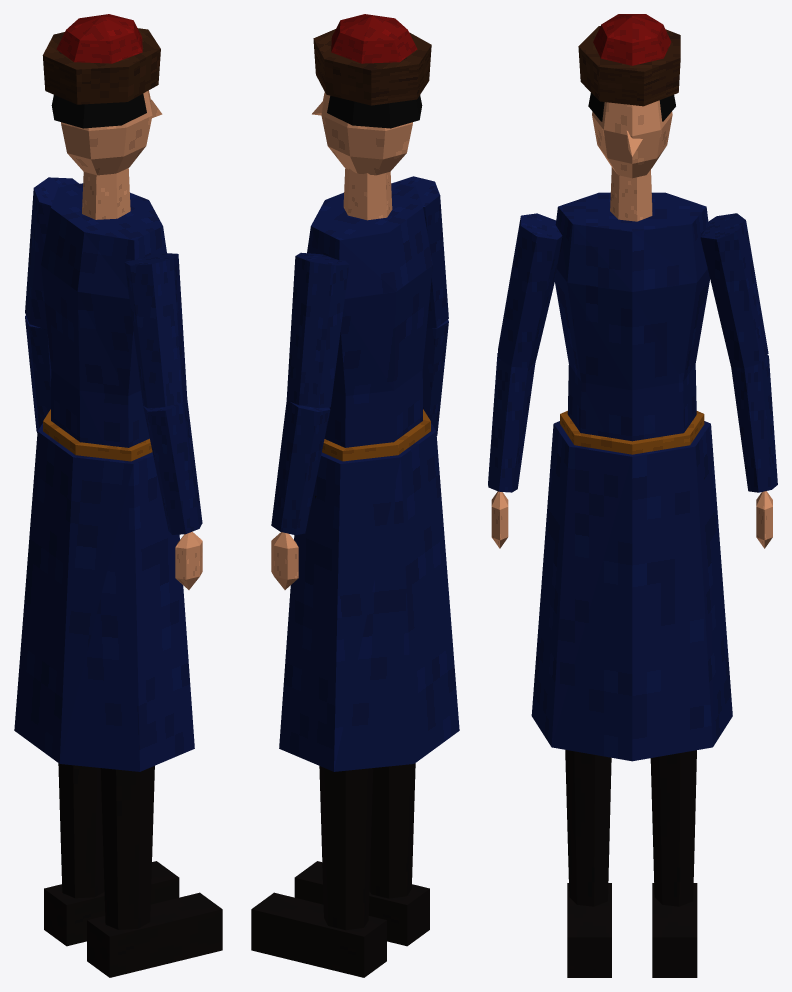
Rendered from protagonista.glb.
3 views of the same model, side by side, from view 1: azimuth 30°, elevation 25°; view 2: azimuth 150°, elevation 25°; view 3: azimuth 270°, elevation 25° (orthographic).
Parts seen in each view (by area): view 1: faldon, torso, pierna_der, brazo_der, pie_der, pierna_izq, gorro, antebrazo_der, cabeza, pie_izq, gorro_2, brazo_izq (+5 smaller); view 2: faldon, torso, pierna_izq, brazo_izq, pie_izq, pierna_der, gorro, antebrazo_izq, cabeza, pie_der, gorro_2, brazo_der (+5 smaller); view 3: faldon, torso, brazo_izq, pierna_der, brazo_der, pierna_izq, gorro, cabeza, antebrazo_izq, antebrazo_der, pie_izq, pie_der (+5 smaller).
Part boxes in pixels (left/top/right/bottom): faldon: left=14, top=423, right=194, bottom=771; torso: left=41, top=183, right=166, bottom=447; pierna_der: left=100, top=766, right=154, bottom=929; brazo_der: left=124, top=253, right=187, bottom=408; pie_der: left=87, top=892, right=222, bottom=977; pierna_izq: left=58, top=763, right=104, bottom=898; gorro: left=42, top=28, right=160, bottom=104; antebrazo_der: left=143, top=398, right=202, bottom=534; cabeza: left=61, top=90, right=162, bottom=175; pie_izq: left=44, top=861, right=179, bottom=946; gorro_2: left=56, top=14, right=142, bottom=63; brazo_izq: left=25, top=177, right=78, bottom=329; faldon: left=279, top=423, right=459, bottom=771; torso: left=307, top=183, right=432, bottom=447; pierna_izq: left=319, top=766, right=373, bottom=930; brazo_izq: left=286, top=252, right=349, bottom=408; pie_izq: left=251, top=892, right=386, bottom=977; pierna_der: left=369, top=763, right=415, bottom=898; gorro: left=313, top=29, right=431, bottom=105; antebrazo_izq: left=271, top=400, right=330, bottom=535; cabeza: left=312, top=92, right=412, bottom=175; pie_der: left=294, top=861, right=429, bottom=946; gorro_2: left=331, top=14, right=417, bottom=63; brazo_der: left=392, top=176, right=448, bottom=328; faldon: left=531, top=421, right=732, bottom=761; torso: left=555, top=192, right=709, bottom=441; brazo_izq: left=700, top=213, right=768, bottom=368; pierna_der: left=565, top=750, right=611, bottom=906; brazo_der: left=498, top=213, right=562, bottom=368; pierna_izq: left=650, top=750, right=696, bottom=906; gorro: left=578, top=26, right=680, bottom=106; cabeza: left=592, top=100, right=672, bottom=178; antebrazo_izq: left=731, top=355, right=777, bottom=492; antebrazo_der: left=488, top=353, right=535, bottom=492; pie_izq: left=652, top=883, right=697, bottom=977; pie_der: left=567, top=883, right=611, bottom=977.
Bounding box in the file's own units: 0.3 × 1.75 × 0.5.
1 material, 1 textured.
